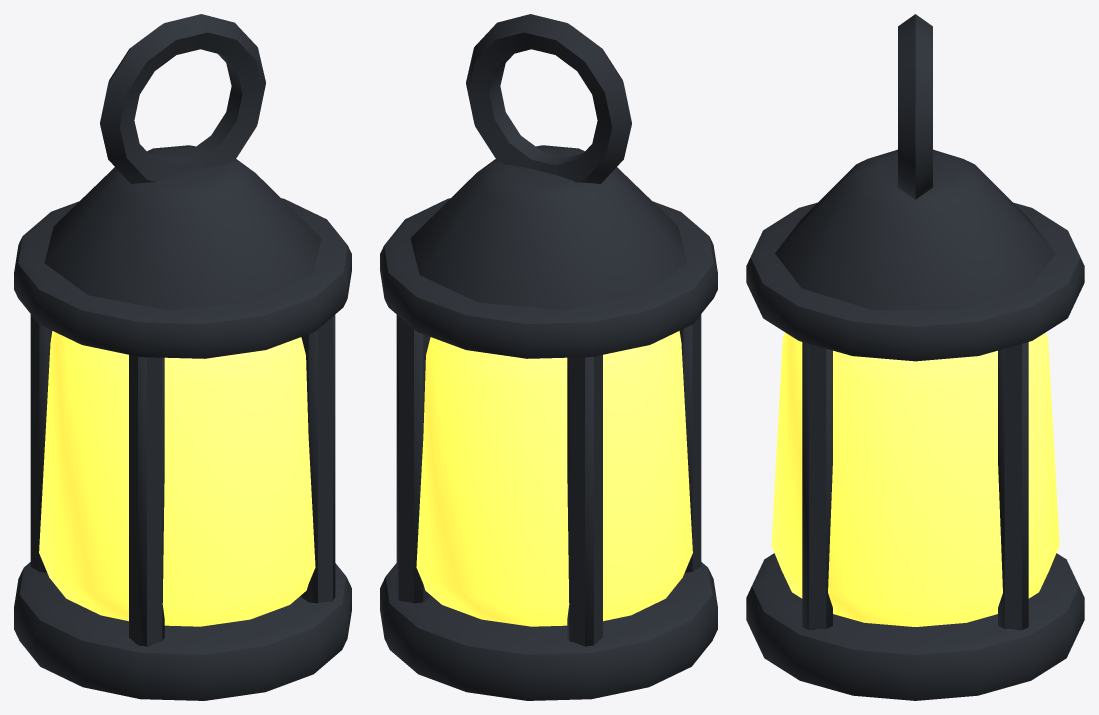
Rendered from Lantern.glb.
3 views of the same model, side by side, from view 1: azimuth 30°, elevation 25°; view 2: azimuth 150°, elevation 25°; view 3: azimuth 270°, elevation 25° (orthographic).
Visible parts, largest first — view 1: Lantern; view 2: Lantern; view 3: Lantern.
Part boxes in pixels (x1,y1,x2,y2): Lantern: (14, 14, 351, 700); Lantern: (380, 14, 717, 700); Lantern: (746, 14, 1084, 700).
Size of the model in its own units: 0.22 by 0.4404 by 0.22.
